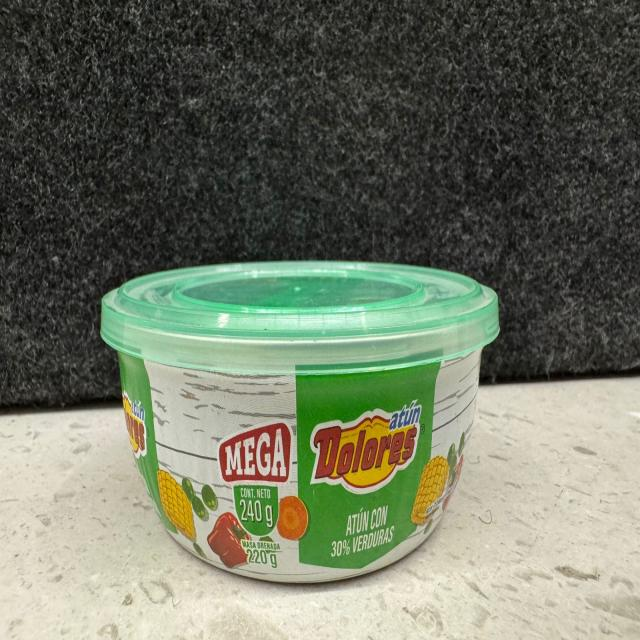DOLORES ENSALADA CON VERDURAS MAXI CUP CAN 240gr: (102, 258, 502, 586)
